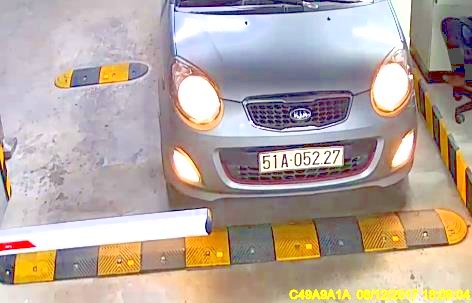plate: (248, 145, 350, 175)
